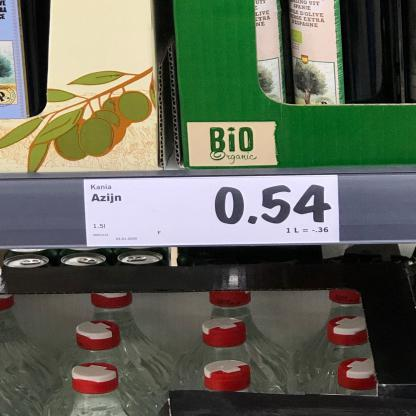prtg: (84, 175, 341, 248)
